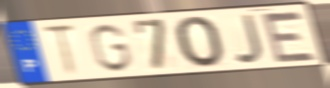7: (130, 18, 170, 73)
E: (259, 10, 320, 65)
G: (87, 22, 135, 74)
J: (232, 12, 266, 66)
O: (172, 15, 226, 70)
T: (40, 24, 79, 79)
